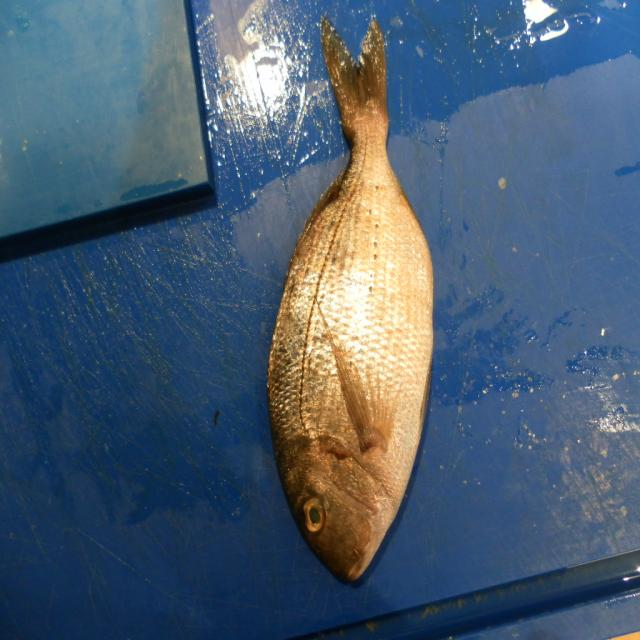Red-Sea-Bream-mercan-: (265, 18, 436, 587)
